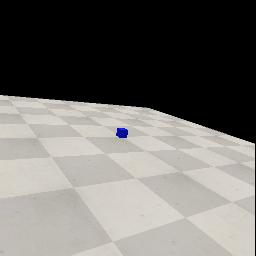box: (116, 128, 128, 138)
